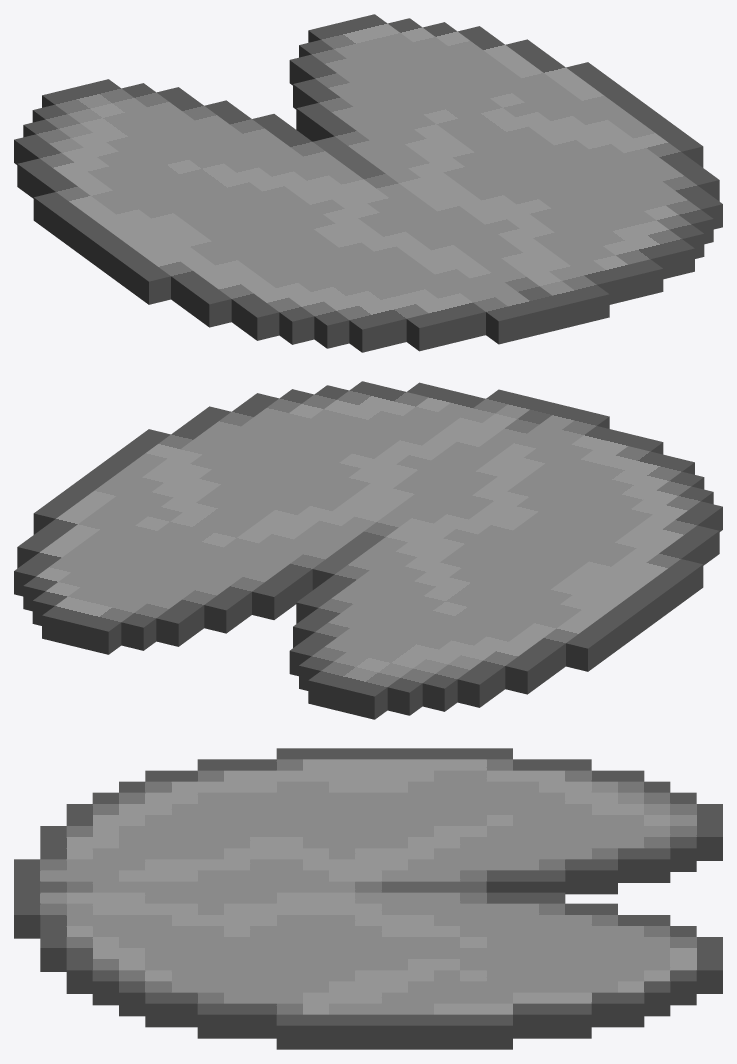
Rendered from lily_pad_1.gltf.
3 views of the same model, one above another, from view 1: azimuth 30°, elevation 25°; view 2: azimuth 150°, elevation 25°; view 3: azimuth 270°, elevation 25° (orthographic). The views are drawn at different scales.
Parts seen in each view (by area): view 1: 81e633a8-b0e2-a155-c994-8a96e1bf665b, 56c031b2-4101-8159-29ec-e189d9034b6b, ed4a27f0-9779-96a9-3349-e3bf44e4ea9c, 5ea3e2f1-3f44-edd9-7edb-d490c6600c02, 72ee621b-2b38-fc69-cd97-50ac66d9d140, 58412ed1-2852-6aa8-9e45-ff7574d423c6, d58fbd90-ddbd-861c-43f3-2f7729d181a6, 52c4b49f-b007-24af-ee6c-1f6c04446844, f36d40c3-e059-8b58-43fc-f37df83248a1, 5b947595-b0cf-4131-b4c0-9454f49da090, 301f0522-a815-993d-4787-ccc34762835d, 4a276a80-e6a0-6c2f-0d02-973f2b40bf07 (+11 smaller); view 2: 81e633a8-b0e2-a155-c994-8a96e1bf665b, 56c031b2-4101-8159-29ec-e189d9034b6b, 58412ed1-2852-6aa8-9e45-ff7574d423c6, ed4a27f0-9779-96a9-3349-e3bf44e4ea9c, d58fbd90-ddbd-861c-43f3-2f7729d181a6, 72ee621b-2b38-fc69-cd97-50ac66d9d140, 5ea3e2f1-3f44-edd9-7edb-d490c6600c02, 5b947595-b0cf-4131-b4c0-9454f49da090, 52c4b49f-b007-24af-ee6c-1f6c04446844, 301f0522-a815-993d-4787-ccc34762835d, f36d40c3-e059-8b58-43fc-f37df83248a1, 4a276a80-e6a0-6c2f-0d02-973f2b40bf07 (+9 smaller); view 3: 56c031b2-4101-8159-29ec-e189d9034b6b, 81e633a8-b0e2-a155-c994-8a96e1bf665b, 52c4b49f-b007-24af-ee6c-1f6c04446844, bfdbb82e-a3d9-6c1d-0d67-690a50bc61d5, c0c1ec3c-7b23-462e-7aa7-987abd90bc3f, fcb53603-88de-3130-e35a-34bbf2d71fe8, 46e2b2b7-703a-4c26-7bc7-ee5feca8d86e, f36d40c3-e059-8b58-43fc-f37df83248a1, 5ea3e2f1-3f44-edd9-7edb-d490c6600c02, e1f63058-c10b-c969-826f-62c4af3b6093, d58fbd90-ddbd-861c-43f3-2f7729d181a6, 188543de-15b2-cdc3-bd9f-d2b061a35f48 (+10 smaller).
Part boxes in pixels (x1,y1,x2,y2): 81e633a8-b0e2-a155-c994-8a96e1bf665b: (42,79,428,352); 56c031b2-4101-8159-29ec-e189d9034b6b: (308,14,694,279); ed4a27f0-9779-96a9-3349-e3bf44e4ea9c: (299,40,640,302); 5ea3e2f1-3f44-edd9-7edb-d490c6600c02: (122,83,463,345); 72ee621b-2b38-fc69-cd97-50ac66d9d140: (32,104,349,348); 58412ed1-2852-6aa8-9e45-ff7574d423c6: (289,54,618,304); d58fbd90-ddbd-861c-43f3-2f7729d181a6: (293,79,609,322); 52c4b49f-b007-24af-ee6c-1f6c04446844: (157,87,485,340); f36d40c3-e059-8b58-43fc-f37df83248a1: (204,100,520,344); 5b947595-b0cf-4131-b4c0-9454f49da090: (296,103,587,327); 301f0522-a815-993d-4787-ccc34762835d: (23,119,314,344); 4a276a80-e6a0-6c2f-0d02-973f2b40bf07: (14,134,279,340); 81e633a8-b0e2-a155-c994-8a96e1bf665b: (308,446,694,719); 56c031b2-4101-8159-29ec-e189d9034b6b: (42,381,428,654); 58412ed1-2852-6aa8-9e45-ff7574d423c6: (156,393,485,646); ed4a27f0-9779-96a9-3349-e3bf44e4ea9c: (121,388,463,650); d58fbd90-ddbd-861c-43f3-2f7729d181a6: (204,389,520,633); 72ee621b-2b38-fc69-cd97-50ac66d9d140: (387,471,704,715); 5ea3e2f1-3f44-edd9-7edb-d490c6600c02: (299,431,640,690); 5b947595-b0cf-4131-b4c0-9454f49da090: (252,395,542,619); 52c4b49f-b007-24af-ee6c-1f6c04446844: (289,426,618,676); 301f0522-a815-993d-4787-ccc34762835d: (422,486,713,711); f36d40c3-e059-8b58-43fc-f37df83248a1: (293,411,609,647); 4a276a80-e6a0-6c2f-0d02-973f2b40bf07: (457,501,722,707); 56c031b2-4101-8159-29ec-e189d9034b6b: (66,937,722,993); 81e633a8-b0e2-a155-c994-8a96e1bf665b: (66,804,722,860); 52c4b49f-b007-24af-ee6c-1f6c04446844: (40,848,670,882); bfdbb82e-a3d9-6c1d-0d67-690a50bc61d5: (145,992,644,1027); c0c1ec3c-7b23-462e-7aa7-987abd90bc3f: (197,1003,591,1038); fcb53603-88de-3130-e35a-34bbf2d71fe8: (92,970,696,1005); 46e2b2b7-703a-4c26-7bc7-ee5feca8d86e: (276,1014,512,1049); f36d40c3-e059-8b58-43fc-f37df83248a1: (14,859,617,894); 5ea3e2f1-3f44-edd9-7edb-d490c6600c02: (40,837,696,871); e1f63058-c10b-c969-826f-62c4af3b6093: (119,981,670,1016); d58fbd90-ddbd-861c-43f3-2f7729d181a6: (14,903,617,938); 188543de-15b2-cdc3-bd9f-d2b061a35f48: (14,870,565,892).
Size of the model in its own units: 12.5 by 0.5 by 13.5.
Materials: 2 (2 with a texture image).
